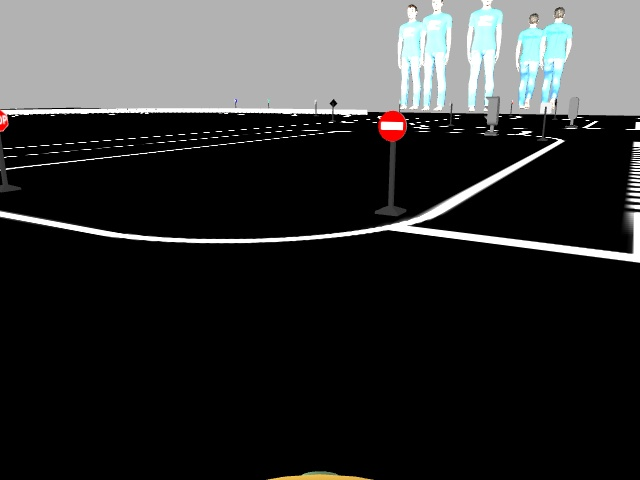NoEntry: (377, 109, 405, 139)
